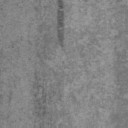oxide scale of plate system: (56, 0, 66, 48)
